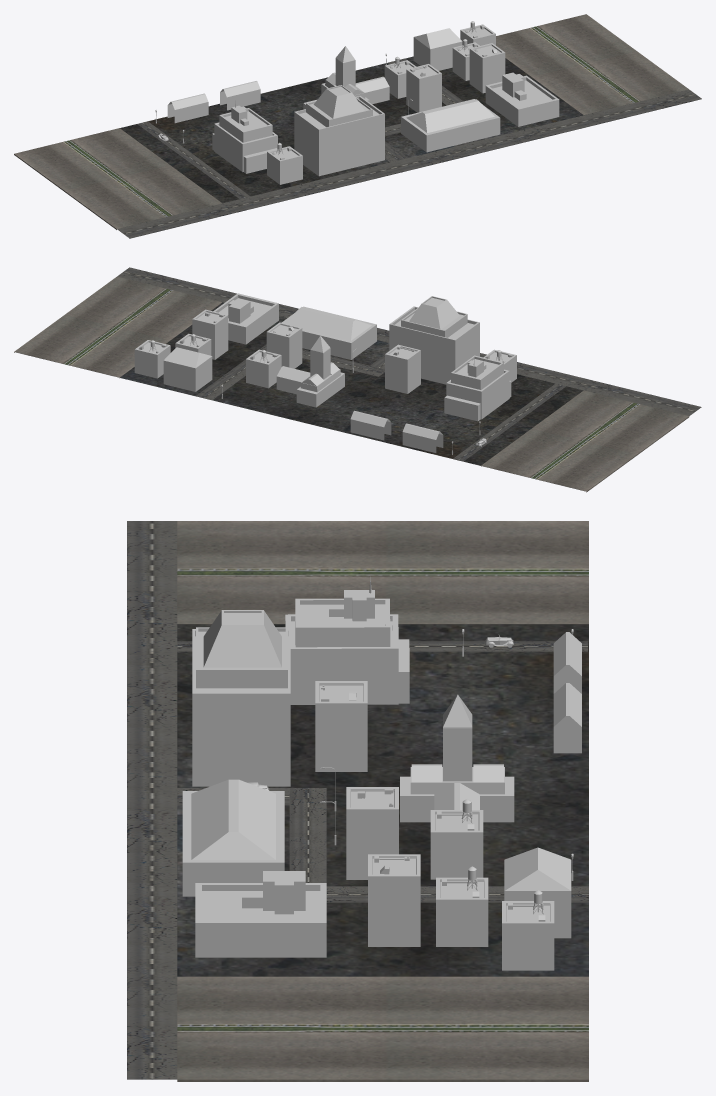
The model's file is Block_19.FBX.
3 renders of one model, top to bottom at view 1: azimuth 30°, elevation 25°; view 2: azimuth 150°, elevation 25°; view 3: azimuth 270°, elevation 25°, orthographic. The views are drawn at different scales.
Visible parts, largest first — view 1: pasted__polySurface1350; view 2: pasted__polySurface1350; view 3: pasted__polySurface1350.
Part boxes in pixels (x1=…): pasted__polySurface1350: x1=14, y1=14, x2=701, y2=238; pasted__polySurface1350: x1=14, y1=267, x2=701, y2=492; pasted__polySurface1350: x1=127, y1=521, x2=588, y2=1081.
Bounding box in the file's own units: 459 × 160 × 54.87.
